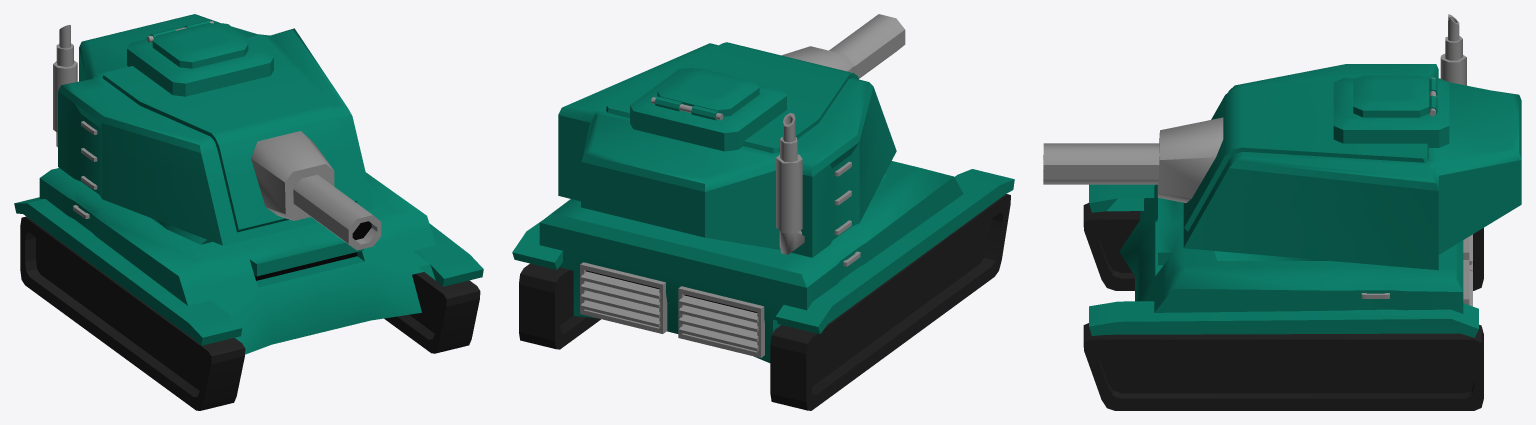
The model's file is low_poly_tank_to_scale.glb.
The picture shows the model from 3 angles, left to right: view 1: azimuth 30°, elevation 25°; view 2: azimuth 150°, elevation 25°; view 3: azimuth 270°, elevation 25°; orthographic projection. The views are drawn at different scales.
Visible parts, largest first — view 1: Turret, Tank, TrackRight, TrackLeft, Barrel, BarrelPipe, Manhole, SmokePipe; view 2: Turret, Tank, TrackRight, BackPlateLeft, TrackLeft, BackPlateRight, Manhole, SmokePipe, BarrelPipe, Barrel; view 3: Turret, Tank, TrackLeft, BarrelPipe, Barrel, TrackRight, Manhole, SmokePipe.
Boxes of the visible parts, x1,y1,x2,y2 form: Turret: (58,14,373,245); Tank: (14,168,483,354); TrackRight: (20,216,245,410); TrackLeft: (384,272,480,353); Barrel: (251,131,334,220); BarrelPipe: (293,174,381,250); Manhole: (150,20,248,68); SmokePipe: (53,25,77,147); Turret: (558,42,896,257); Tank: (512,161,1014,362); TrackRight: (770,194,1010,410); BackPlateLeft: (580,262,667,333); TrackLeft: (519,263,600,349); BackPlateRight: (678,286,764,357); Manhole: (654,68,759,120); SmokePipe: (776,113,804,254); BarrelPipe: (829,14,905,78); Barrel: (781,46,854,73); Turret: (1183,64,1521,270); Tank: (1089,184,1478,337); TrackLeft: (1083,323,1483,410); BarrelPipe: (1043,143,1159,184); Barrel: (1157,117,1223,202); TrackRight: (1083,203,1483,290); Manhole: (1353,75,1437,117); SmokePipe: (1440,14,1466,85).
Bounding box in the file's own units: 4.13 × 3.61 × 5.71.
